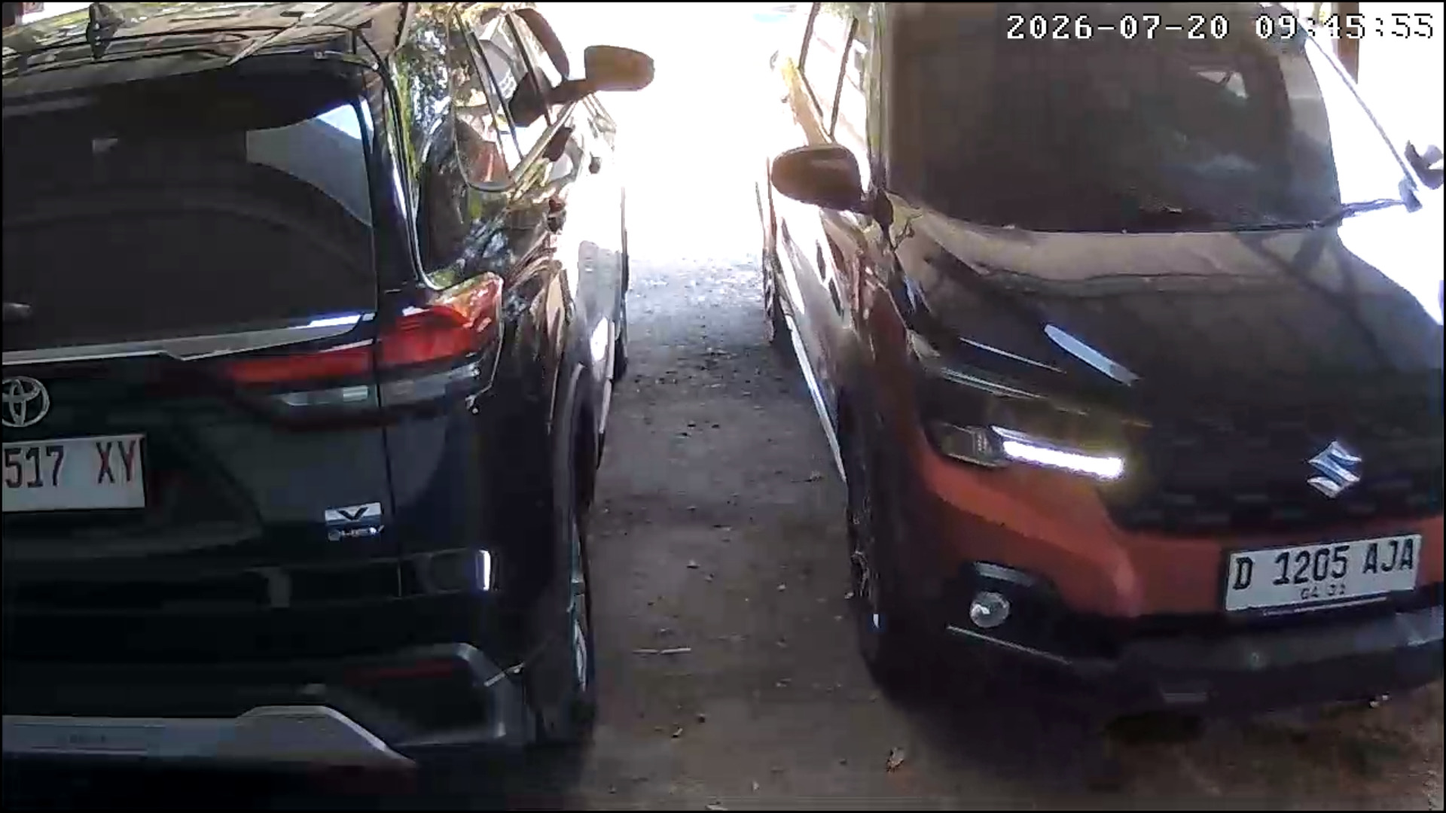plat nomor: (1221, 527, 1424, 612), (0, 433, 147, 513)
